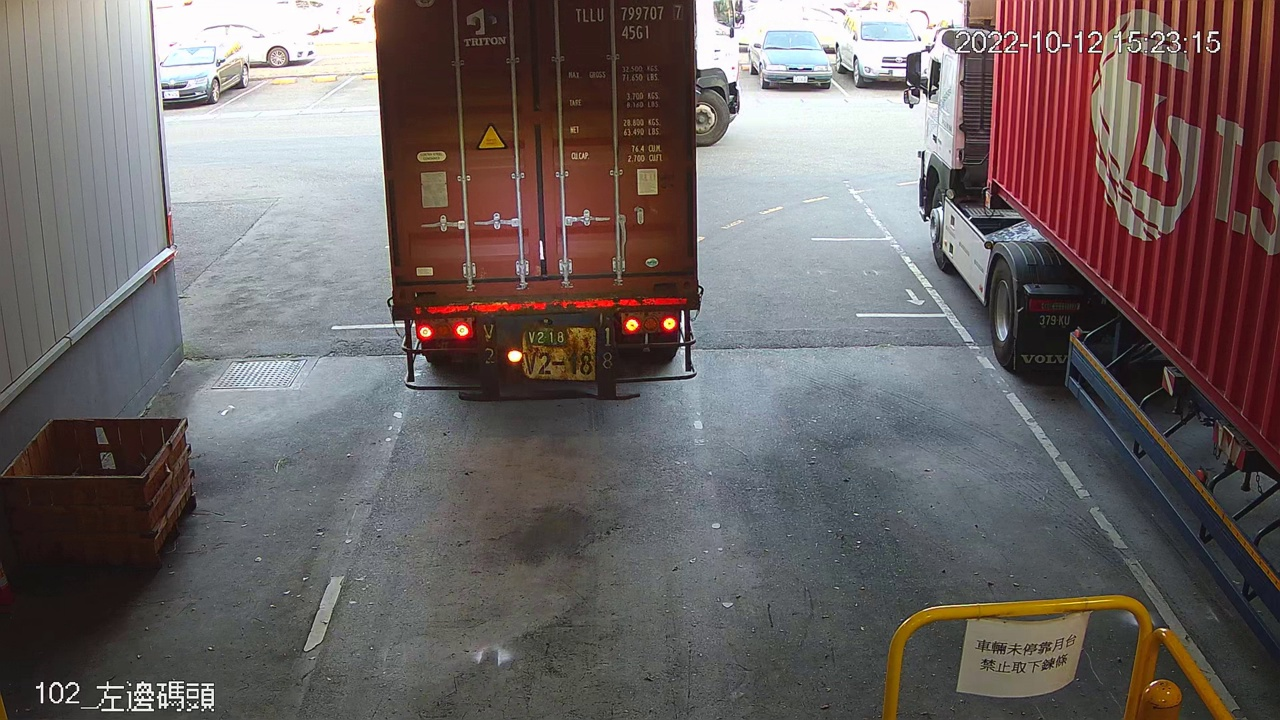container: (567, 2, 688, 44)
